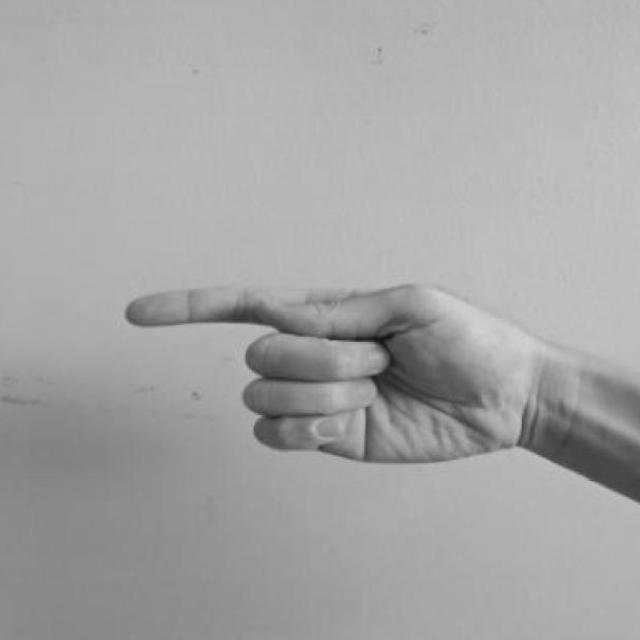G: (120, 203, 573, 490)
